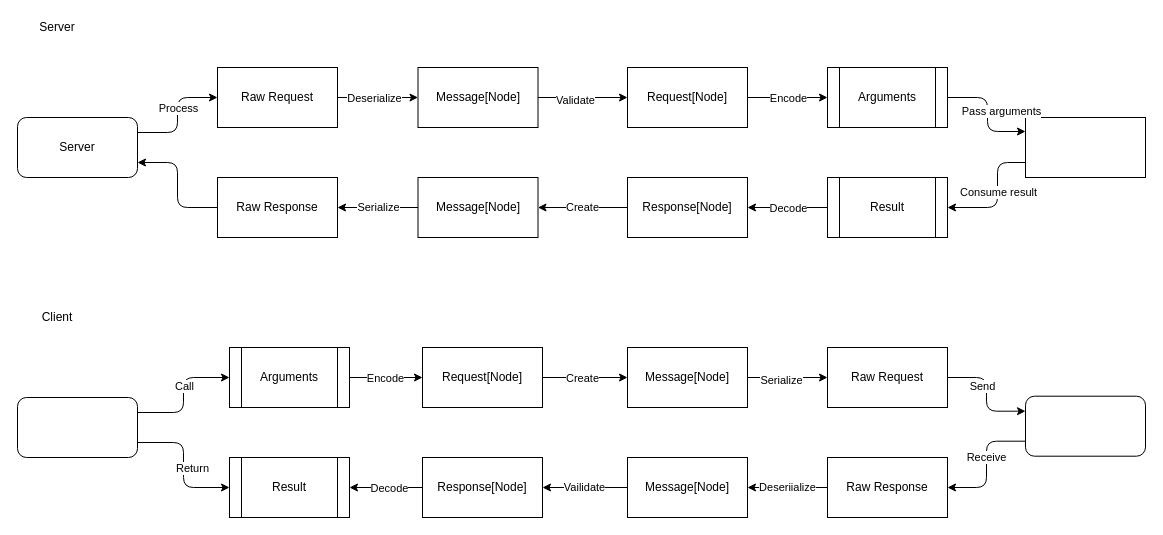
The diagram is 1163 pixels wide and 535 high, and some of its shapes have lost their labels. The shapes that lost their labels are listed below. From the top down, each one's centre as x and y in pixels, then its label:
At point (1085, 147): "Method call".
At point (77, 427): "Application".
At point (1085, 425): "Transport".
